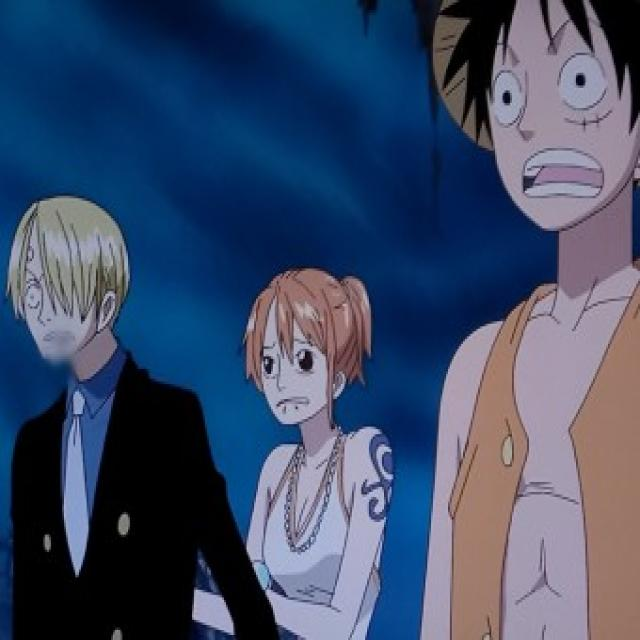Luffy: (427, 0, 640, 246)
Nami: (227, 247, 390, 440)
Sangdi: (0, 173, 147, 384)
